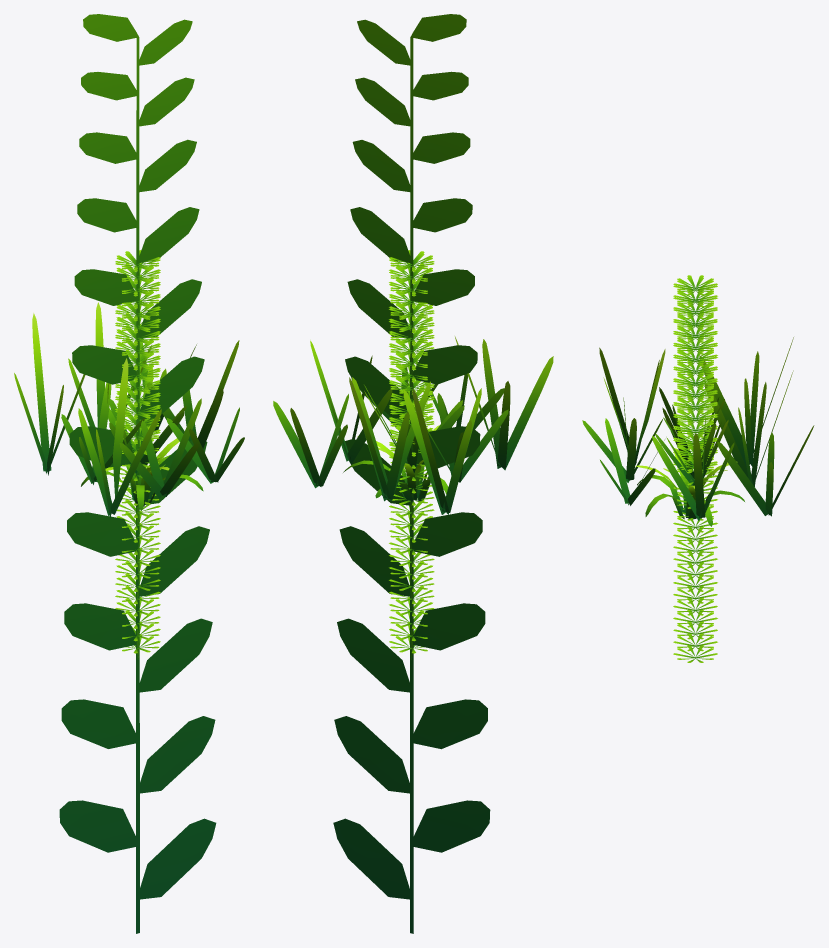
File: Flora.fbx
The picture shows the model from 3 angles, left to right: view 1: azimuth 30°, elevation 25°; view 2: azimuth 150°, elevation 25°; view 3: azimuth 270°, elevation 25°; orthographic projection. The views are drawn at different scales.
Visible parts, largest first — view 1: Kelp, Multi_patch, buschel_lang, buschel, Bush; view 2: Kelp, Multi_patch, buschel_lang, buschel, Bush; view 3: Multi_patch, buschel_lang, buschel, Bush, Single_patch.
Boxes of the visible parts, x1,y1,x2,y2 form: Kelp: (59, 14, 216, 933); Multi_patch: (14, 302, 244, 517); buschel_lang: (115, 254, 160, 659); buschel: (115, 250, 160, 454); Bush: (81, 438, 203, 510); Kelp: (333, 14, 490, 933); Multi_patch: (273, 336, 553, 514); buschel_lang: (389, 253, 434, 659); buschel: (389, 250, 434, 454); Bush: (343, 425, 448, 501); Multi_patch: (582, 337, 814, 520); buschel_lang: (673, 277, 717, 662); buschel: (673, 275, 717, 471); Bush: (635, 448, 744, 526); Single_patch: (662, 407, 728, 483).
Size of the model in its own units: 24.65 by 113 by 26.63.
1 material, 1 textured.
